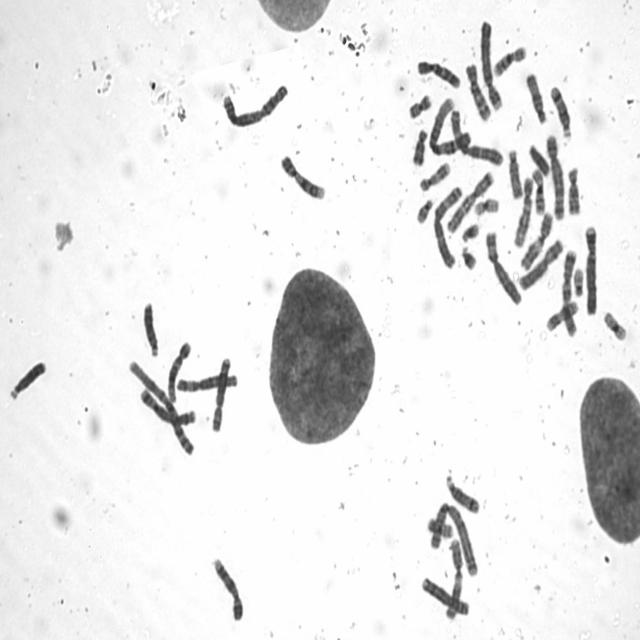A1: (124, 354, 197, 458), (425, 92, 472, 157)
A2: (427, 496, 480, 578), (218, 77, 290, 129)
A3: (446, 104, 505, 167), (429, 180, 464, 270)
B4: (477, 13, 504, 113), (580, 218, 600, 316)
B5: (136, 382, 197, 430), (542, 128, 566, 222)
C10: (461, 57, 493, 123), (413, 54, 462, 90)
C11: (517, 206, 555, 272), (442, 533, 464, 621)
C12: (510, 172, 535, 249), (164, 335, 192, 403)
C6: (482, 224, 523, 307), (172, 368, 240, 394)
C7: (443, 165, 496, 235), (558, 243, 580, 338)
C8: (418, 570, 470, 618), (208, 351, 232, 434)
C9: (276, 148, 327, 201), (208, 551, 245, 623)
D13: (6, 354, 47, 402), (139, 296, 160, 358)
D14: (442, 465, 481, 515), (547, 80, 573, 142)
D15: (523, 67, 548, 126), (504, 143, 524, 200)
E16: (489, 40, 528, 78), (529, 163, 547, 216)
E17: (543, 296, 580, 332), (416, 156, 451, 192)
E18: (564, 161, 582, 217), (408, 123, 428, 167)
F19: (600, 305, 628, 342), (470, 191, 501, 217)
F20: (405, 87, 433, 120), (423, 512, 455, 540)
G21: (458, 240, 478, 271), (458, 218, 481, 243)
G22: (412, 193, 434, 225), (570, 262, 585, 298)
X: (515, 233, 565, 292)
Y: (525, 138, 551, 178)
